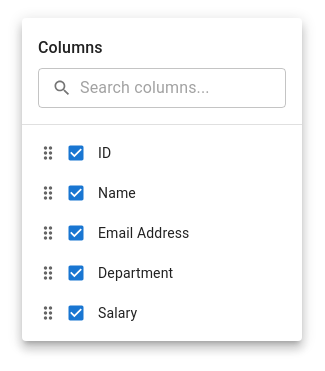
Test: ColumnManagerPanel - Search › shows "No columns found" when search has no matches
Step 1. Type "nonexistent" into the field with placeholder "Search columns..." → (183, 88), box [80,68,286,108]
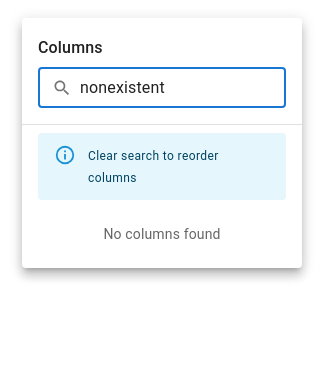
Check: the text "No columns found" is shown, box [103,226,221,242]
